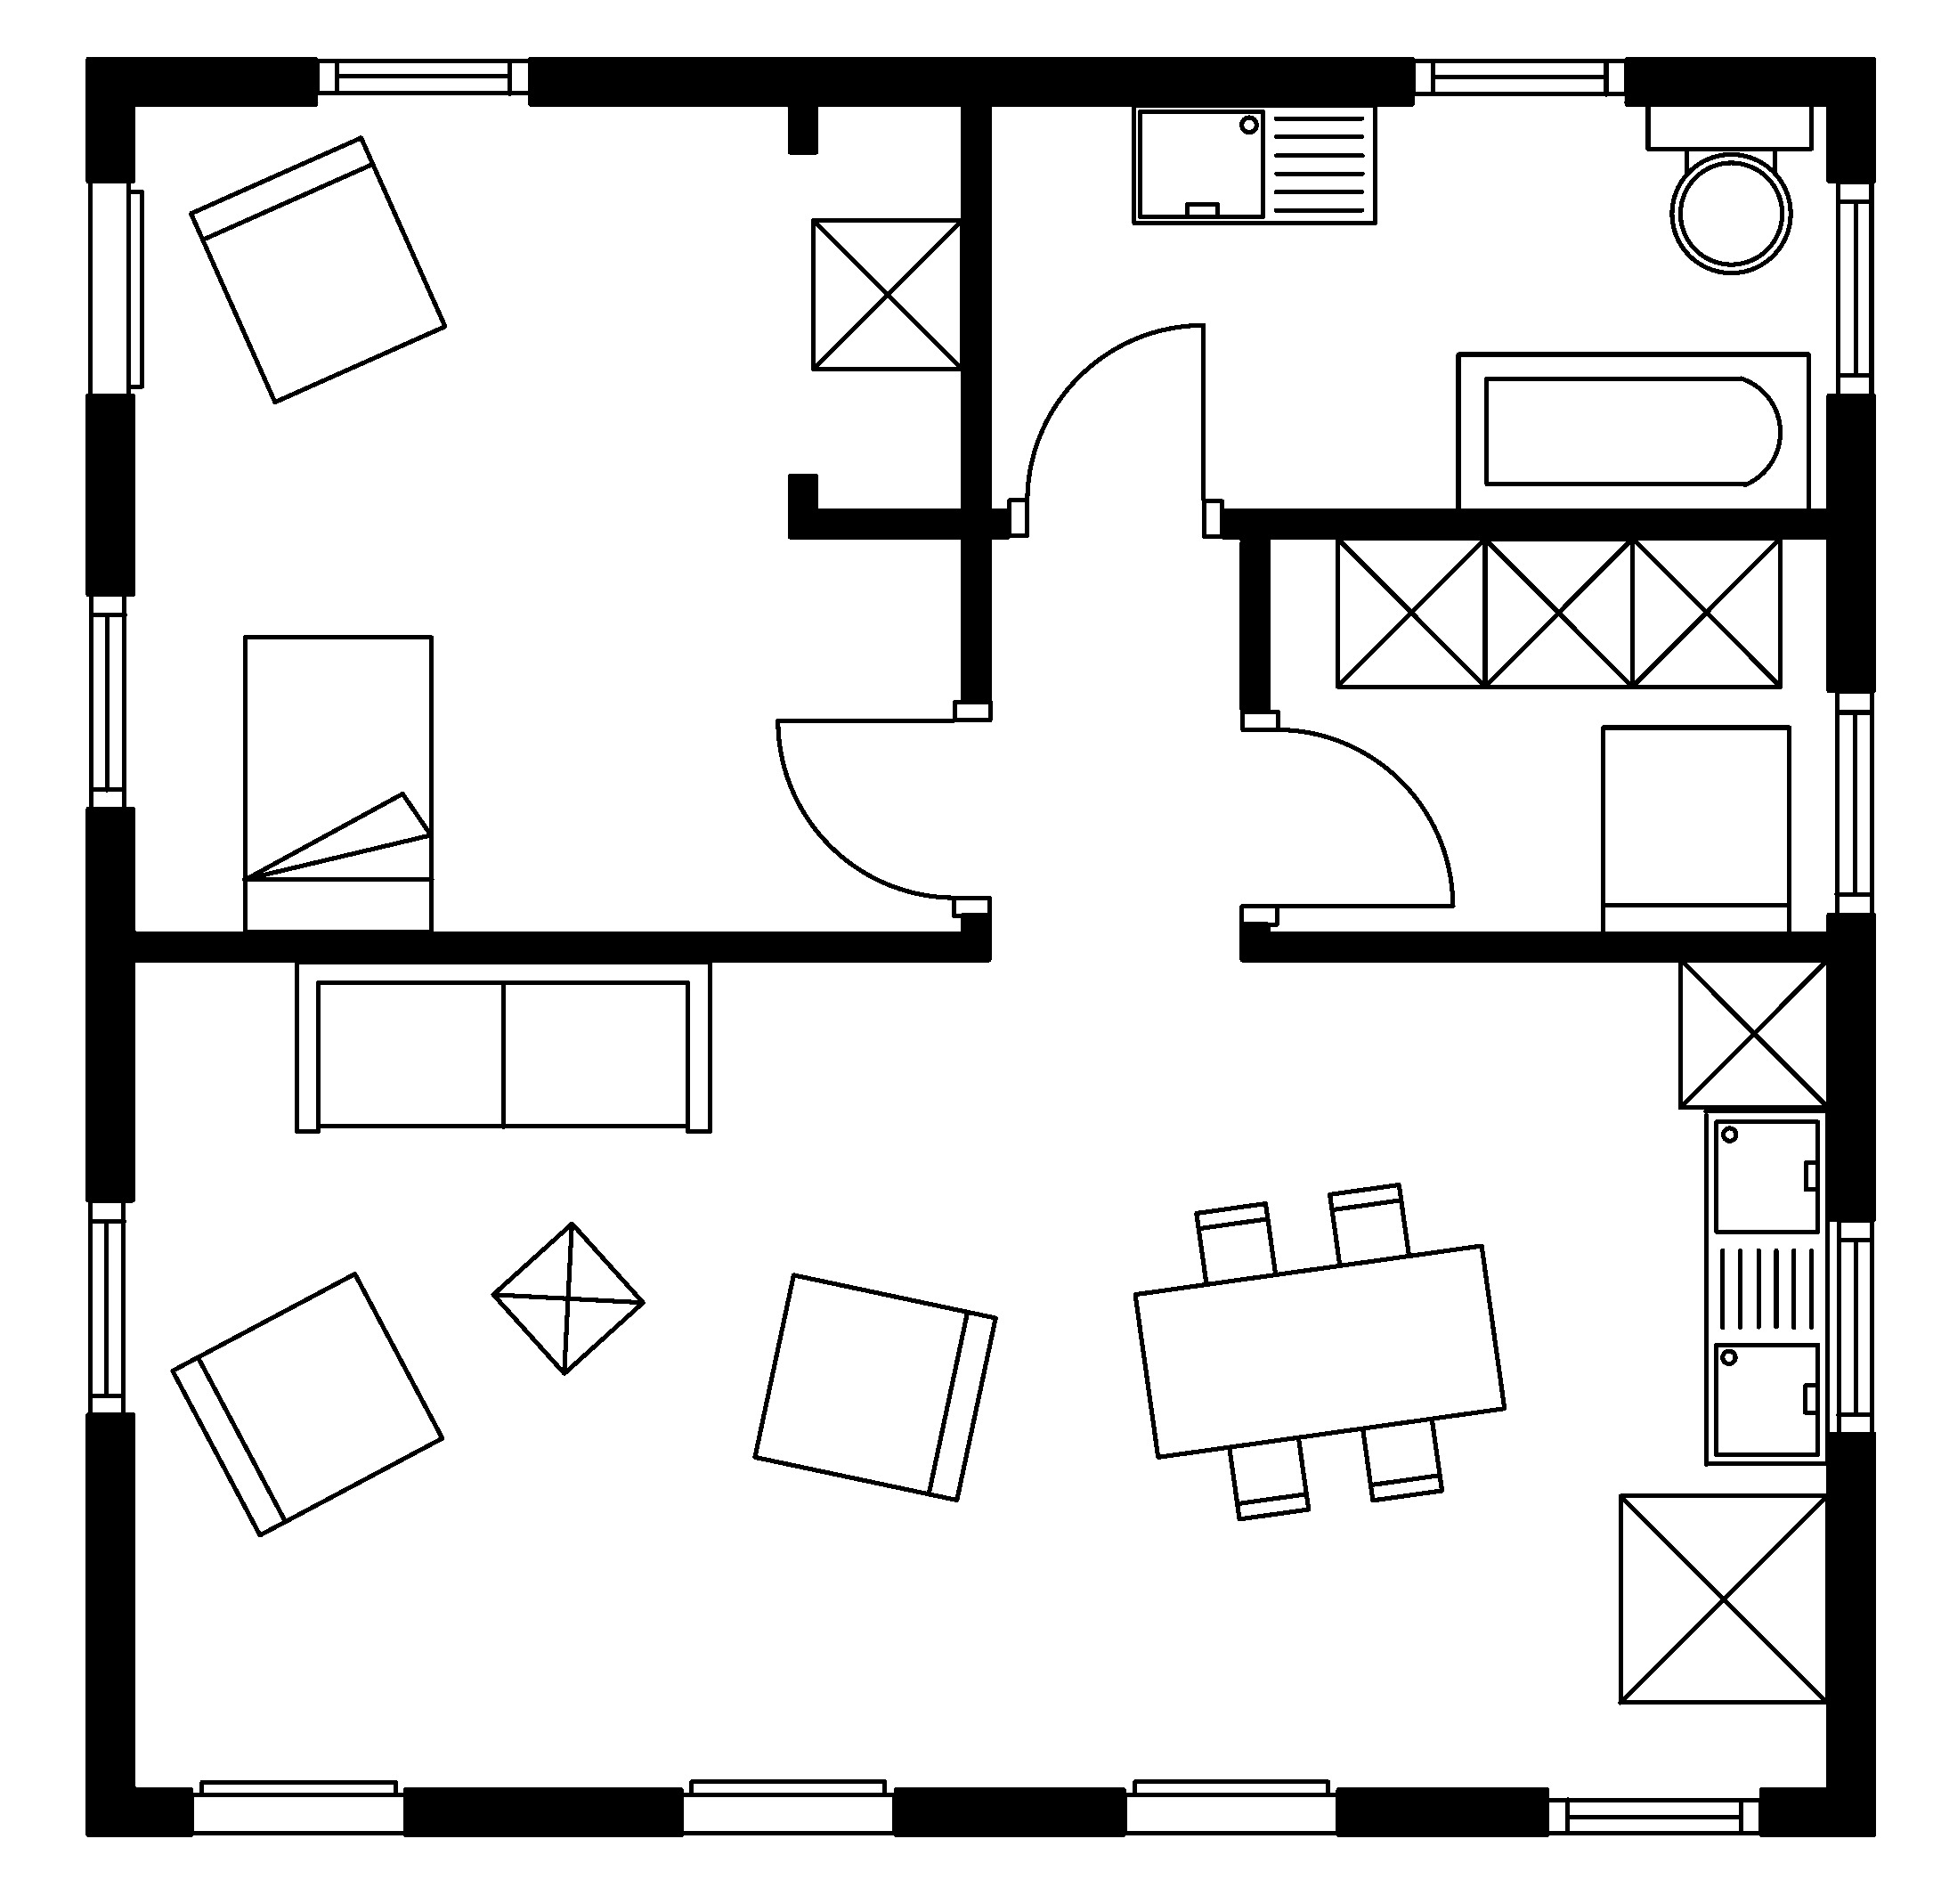basin: (1699, 1107, 1821, 1470), (1126, 106, 1382, 230)
bed: (235, 629, 439, 943)
door: (767, 701, 992, 919), (1238, 711, 1461, 929), (1009, 317, 1220, 541)
rectangleTable: (1128, 1173, 1516, 1529)
window: (1830, 685, 1879, 914), (1543, 1792, 1762, 1841), (82, 1203, 132, 1414), (1832, 174, 1879, 399), (84, 591, 131, 807), (1412, 56, 1628, 103), (1834, 1215, 1879, 1435), (317, 54, 528, 99)
